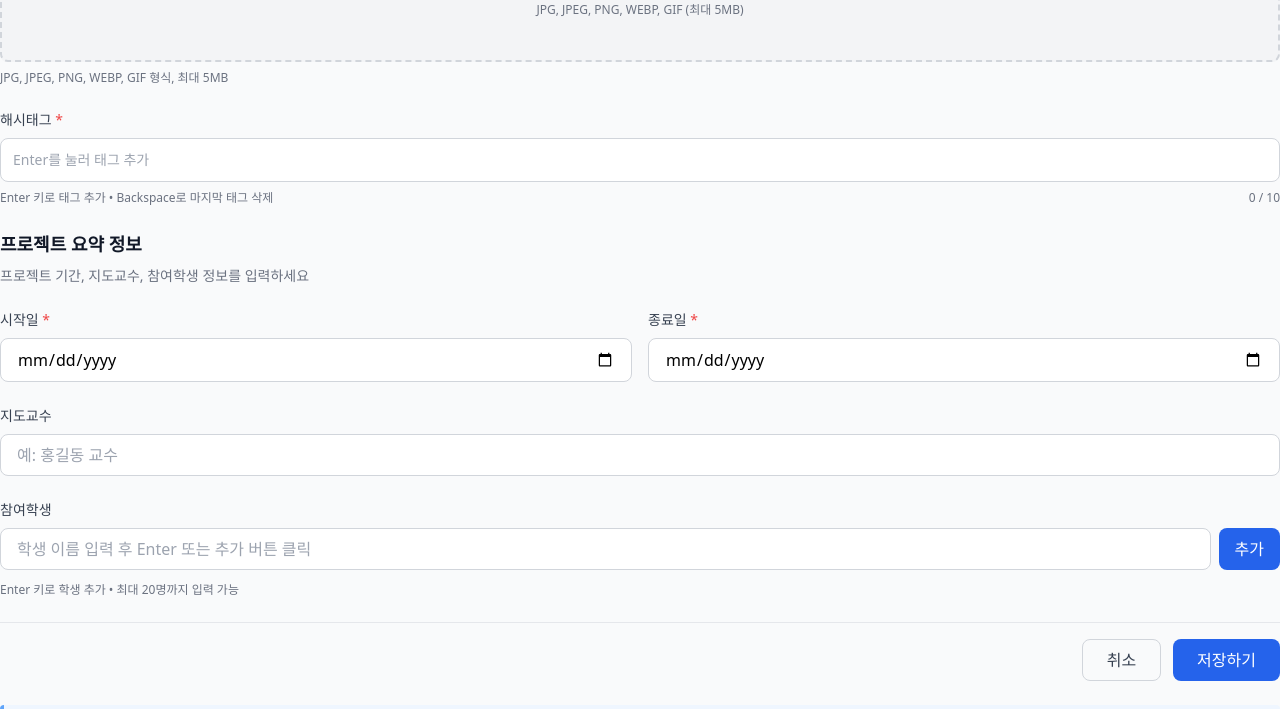
ProjectMetadataForm › Required Field Validation › should show error when title is missing
(page scrolled)
Note: Fill other fields but not title
In the date field labelled "시작일 *": (316, 360) left=0, top=338, right=632, bottom=382, type "2024-01-01"
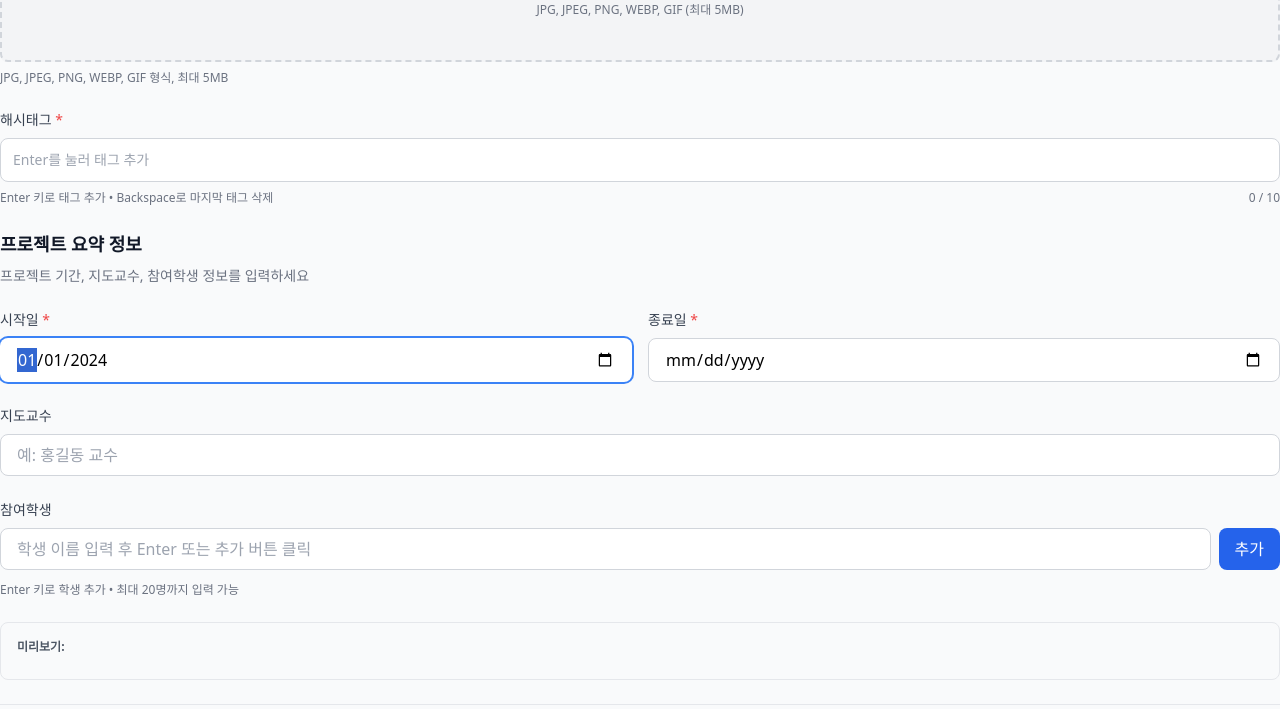
In the date field labelled "종료일 *": (964, 360) left=648, top=338, right=1279, bottom=382, type "2024-12-31"
(page scrolled)
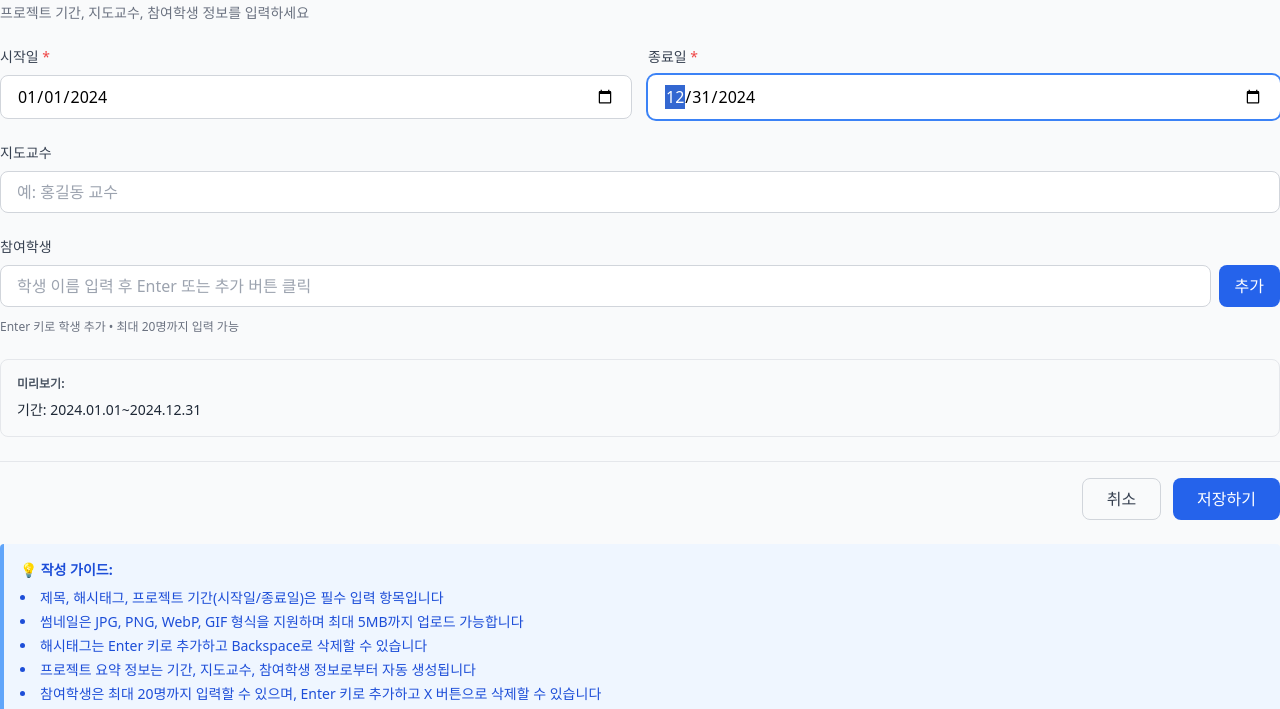
Click the button "저장하기": (1227, 499) left=1173, top=478, right=1279, bottom=520
(page scrolled)
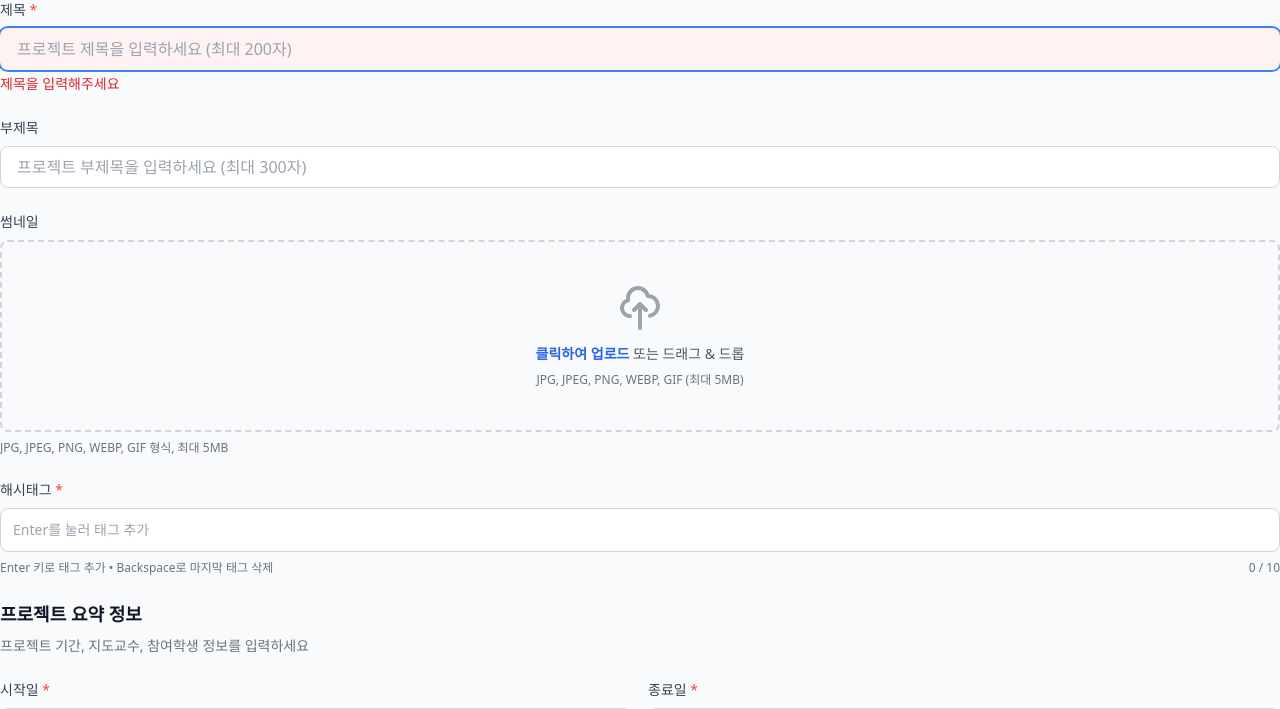
Expected: the text "제목을 입력해주세요" is shown, left=0, top=74, right=120, bottom=93
